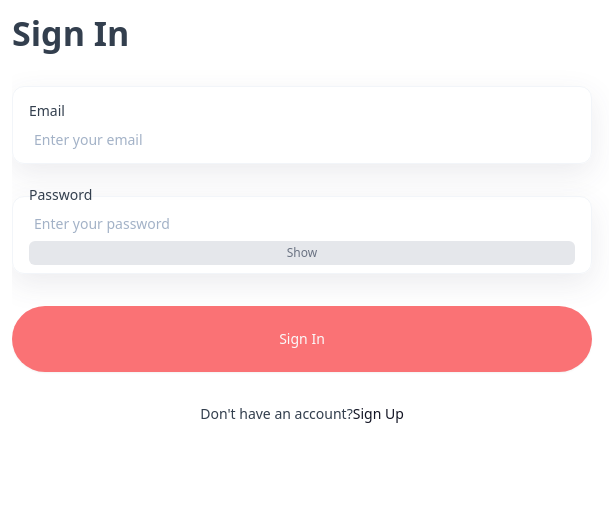
AuthForm — Sign In › displays error message on failure
Type "bad@user.com" into the field labelled "Email" at (302, 139), box [29, 121, 575, 157]
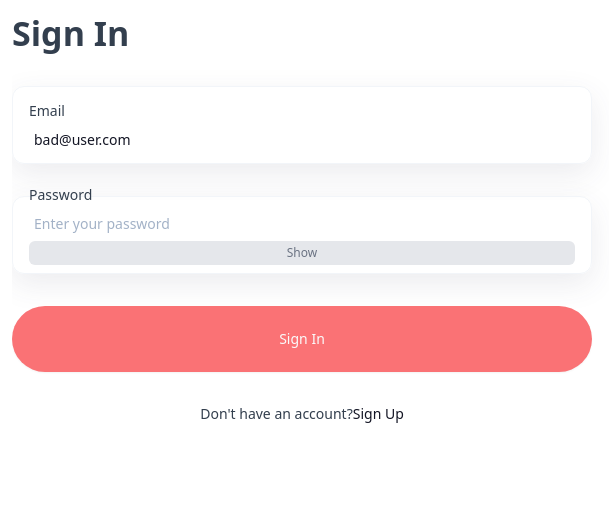
Type "short" into the password field with placeholder "Enter your password" at (302, 223), box [29, 205, 575, 241]
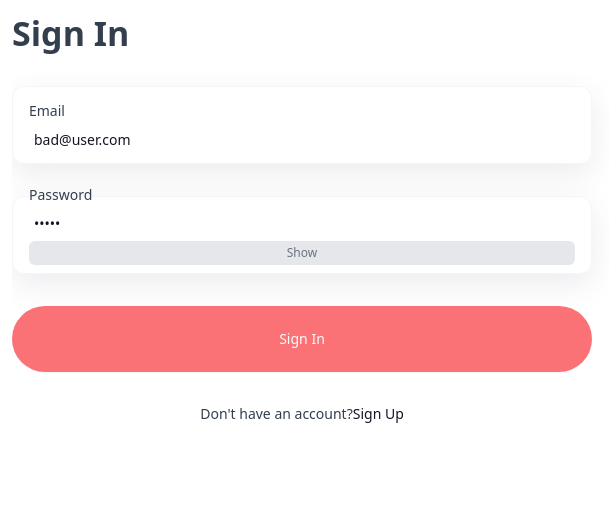
Click the button "Sign In" at (302, 339), box [12, 306, 592, 372]
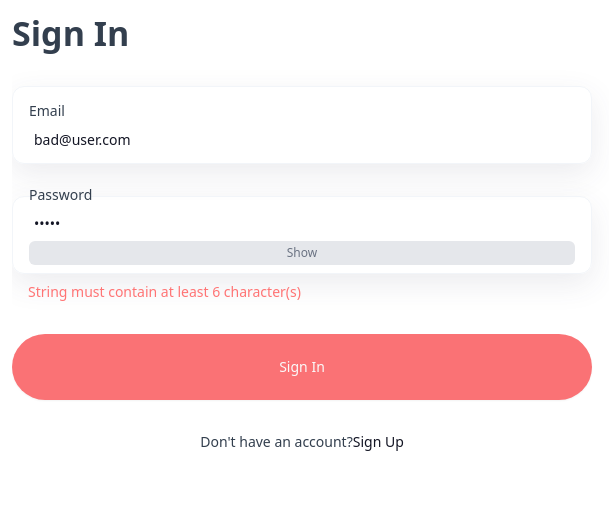
expect the text "String must contain at least 6 character(s)" is shown: met, box [28, 282, 301, 301]
Replace the text in the field labelled "Email" with "notexist@user.com" at (302, 139), box [29, 121, 575, 157]
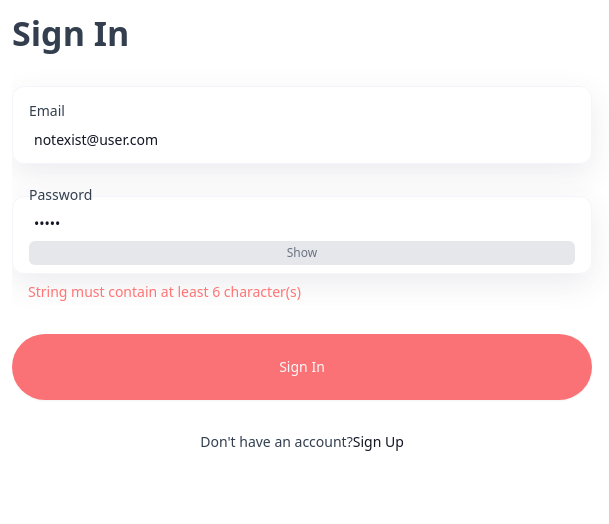
Type "notexistpassword" into the password field with placeholder "Enter your password" at (302, 223), box [29, 205, 575, 241]
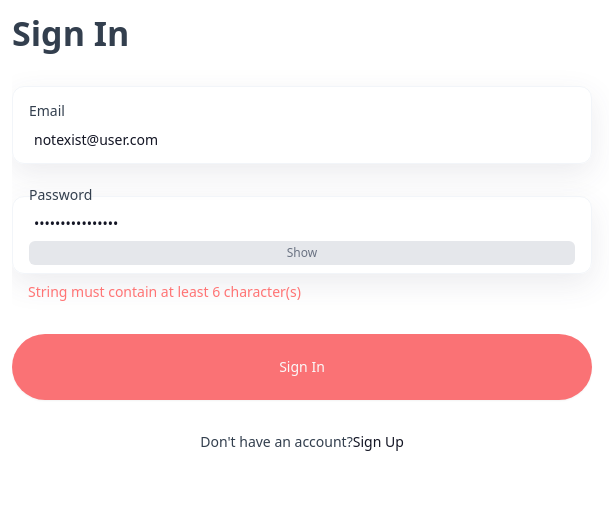
Click the button "Sign In" at (302, 367), box [12, 334, 592, 400]
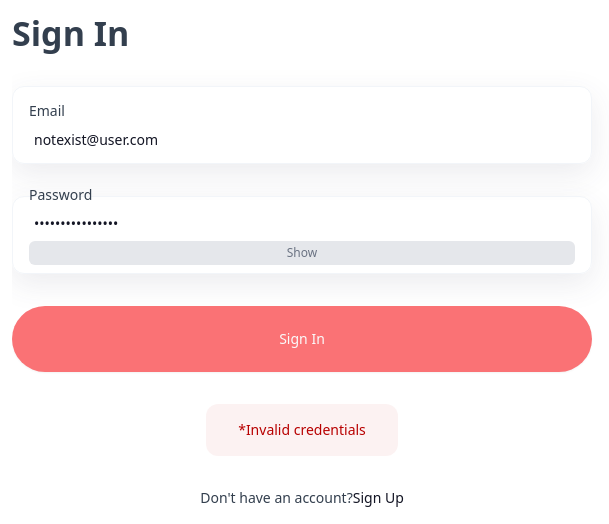
expect the text "*Invalid credentials" is shown: met, box [206, 404, 398, 456]
